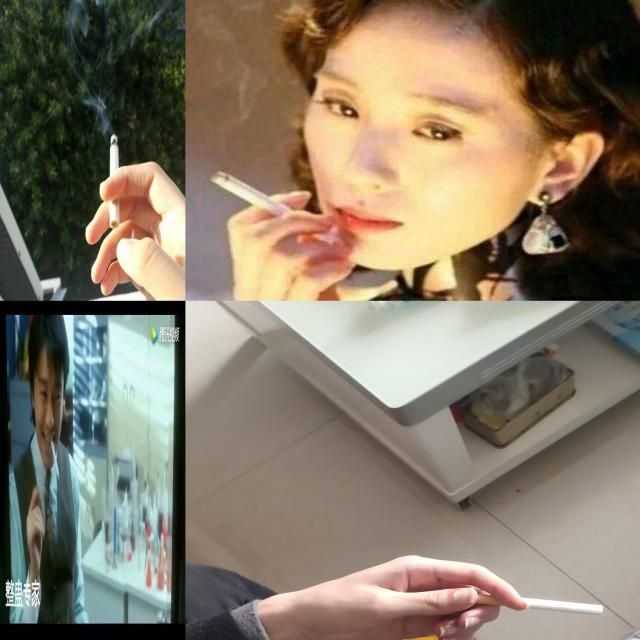smoking: (210, 170, 328, 240), (468, 594, 606, 614), (108, 133, 120, 230), (50, 438, 60, 484)
